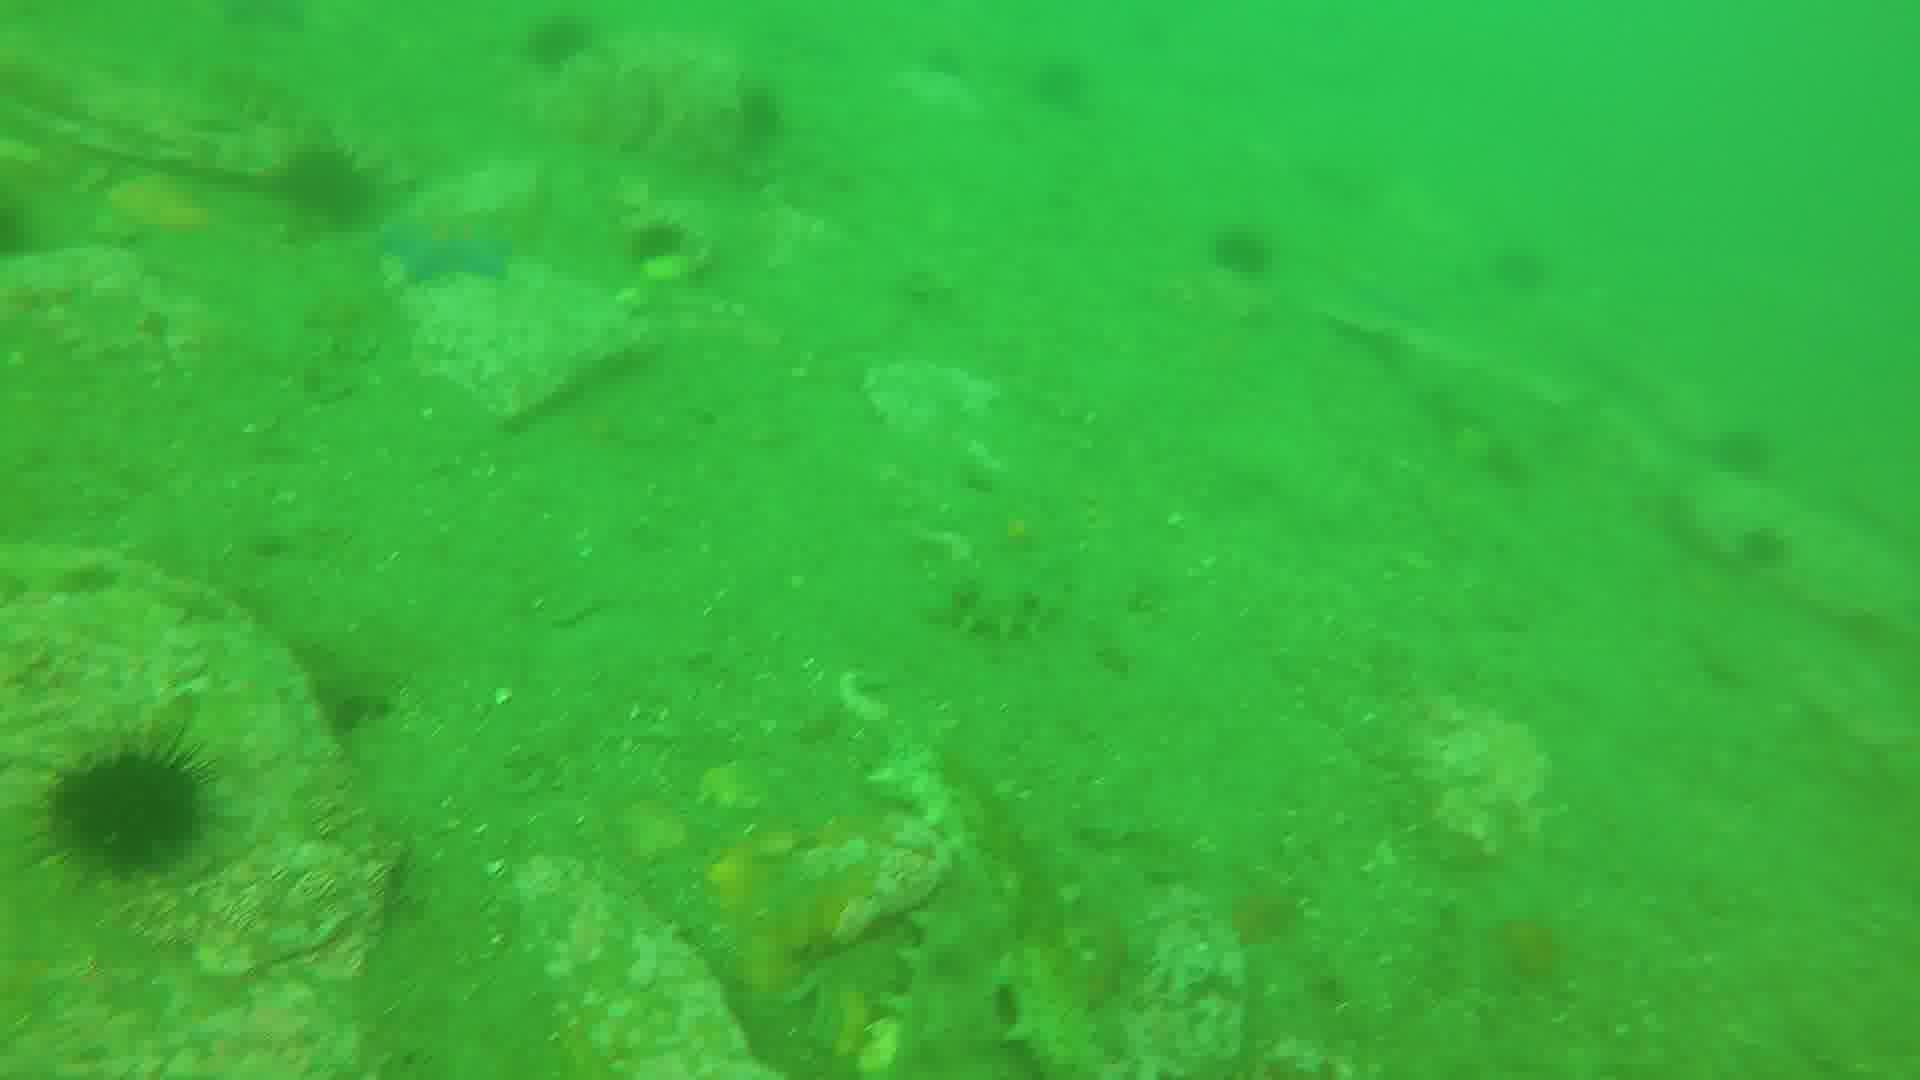echinus: (57, 750, 210, 874), (280, 142, 380, 223), (1031, 57, 1102, 119), (1708, 433, 1770, 502), (1501, 240, 1569, 286), (1215, 222, 1265, 276), (745, 86, 793, 140), (535, 18, 585, 69), (1746, 527, 1788, 585), (646, 218, 692, 262), (923, 44, 961, 80)
holothurian: (880, 744, 1112, 1080), (895, 866, 1015, 1080), (210, 61, 363, 154), (915, 562, 1069, 632)
starfish: (380, 215, 529, 290)
